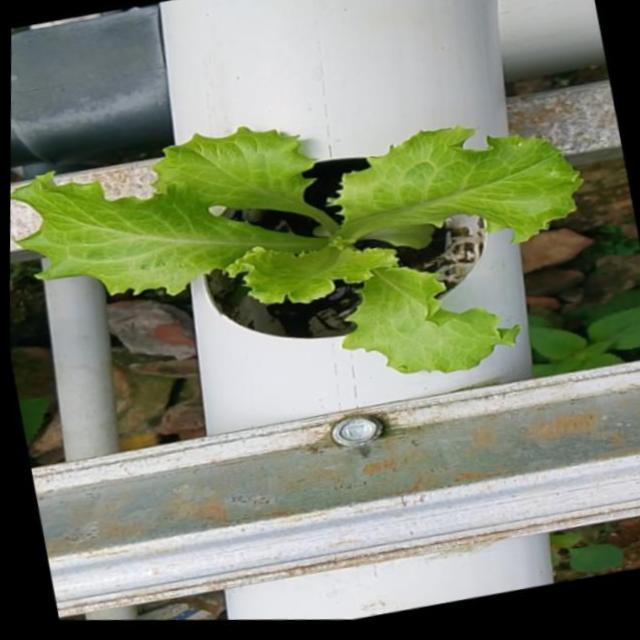Baby: (10, 124, 584, 371)
